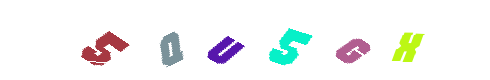5: (63, 0, 143, 80), (213, 0, 293, 80)
G: (249, 0, 329, 80)
Q: (184, 0, 264, 80)
U: (204, 0, 284, 80)
X: (367, 0, 447, 80)
